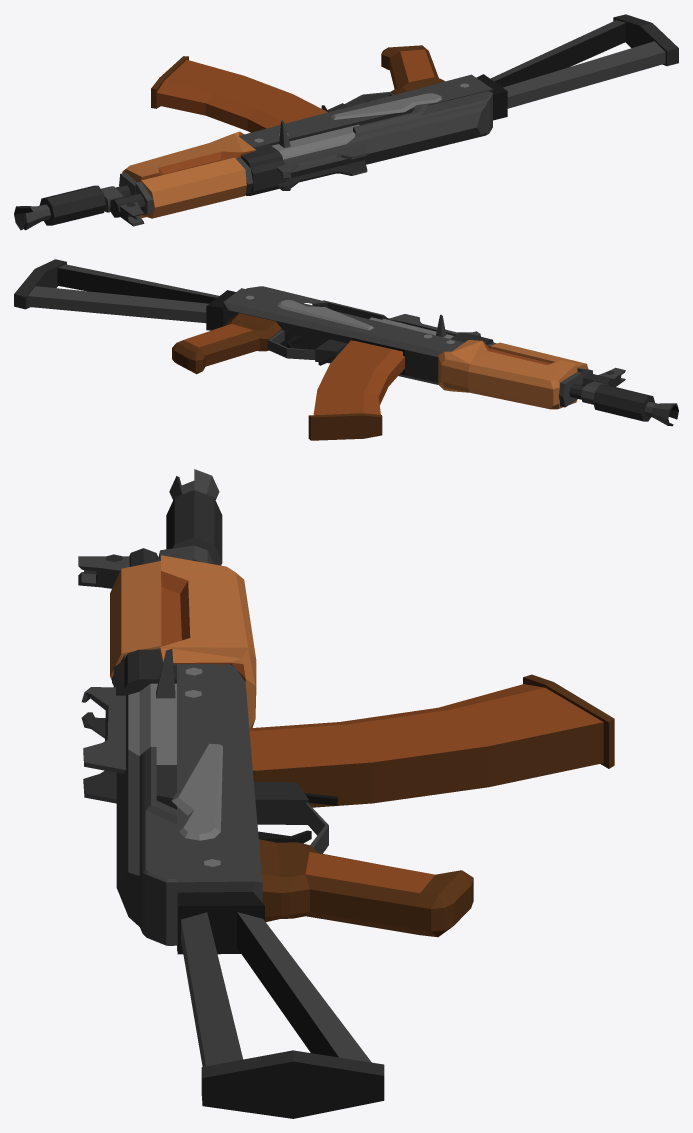
File: AkSu_3D.glb
The picture shows the model from 3 angles, top to bottom: view 1: azimuth 30°, elevation 25°; view 2: azimuth 150°, elevation 25°; view 3: azimuth 270°, elevation 25°; orthographic projection. The views are drawn at different scales.
Parts seen in each view (by area): view 1: AkSuLowPoly; view 2: AkSuLowPoly; view 3: AkSuLowPoly.
Boxes of the visible parts, x1,y1,x2,y2 form: AkSuLowPoly: [14, 14, 678, 230]; AkSuLowPoly: [14, 259, 678, 440]; AkSuLowPoly: [78, 469, 614, 1118].
Bounding box in the file's own units: 0.8377 × 0.074 × 0.3158.
1 material, 1 textured.
